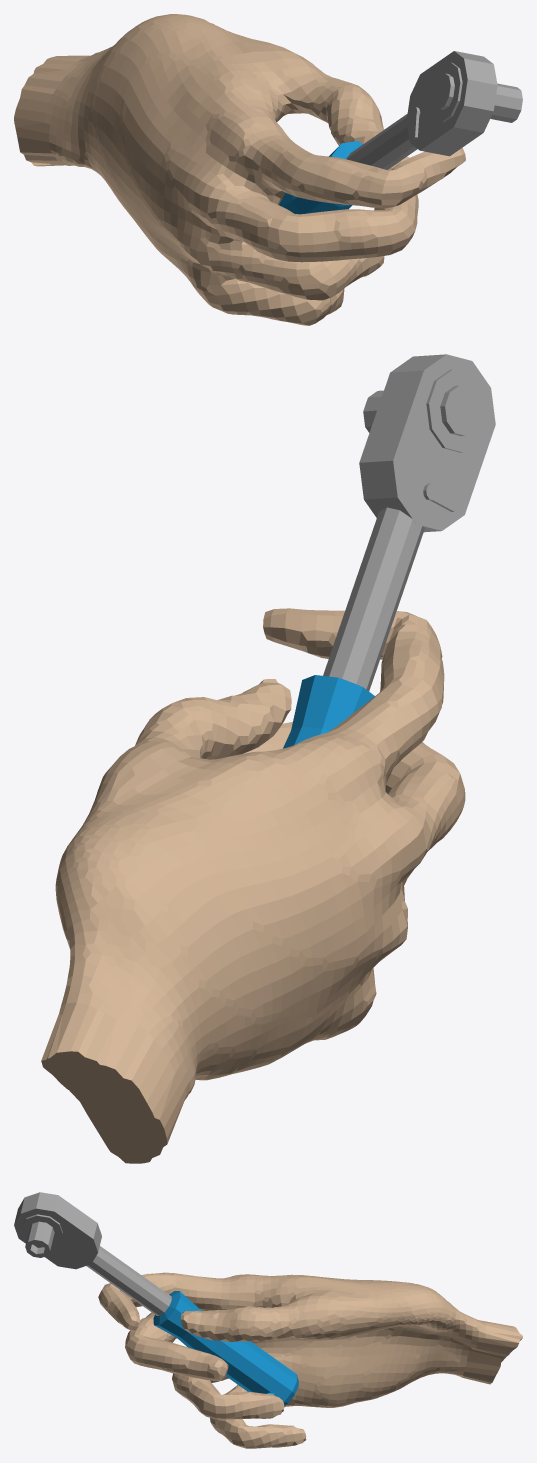
The model's file is SC2-hand with socketwrench.fbx.
3 views of the same model, one above another, from view 1: azimuth 30°, elevation 25°; view 2: azimuth 150°, elevation 25°; view 3: azimuth 270°, elevation 25° (orthographic). The views are drawn at different scales.
Parts seen in each view (by area): view 1: Object03_Object03.001, dopsleutel_Cylinder.001; view 2: Object03_Object03.001, dopsleutel_Cylinder.001; view 3: Object03_Object03.001, dopsleutel_Cylinder.001.
Boxes of the visible parts, <box> form: Object03_Object03.001: <box>14,14,465,325</box>; dopsleutel_Cylinder.001: <box>279,51,522,214</box>; Object03_Object03.001: <box>41,608,465,1163</box>; dopsleutel_Cylinder.001: <box>283,354,495,748</box>; Object03_Object03.001: <box>98,1272,522,1448</box>; dopsleutel_Cylinder.001: <box>14,1192,298,1405</box>.
Size of the model in its own units: 280 by 480 by 869.
